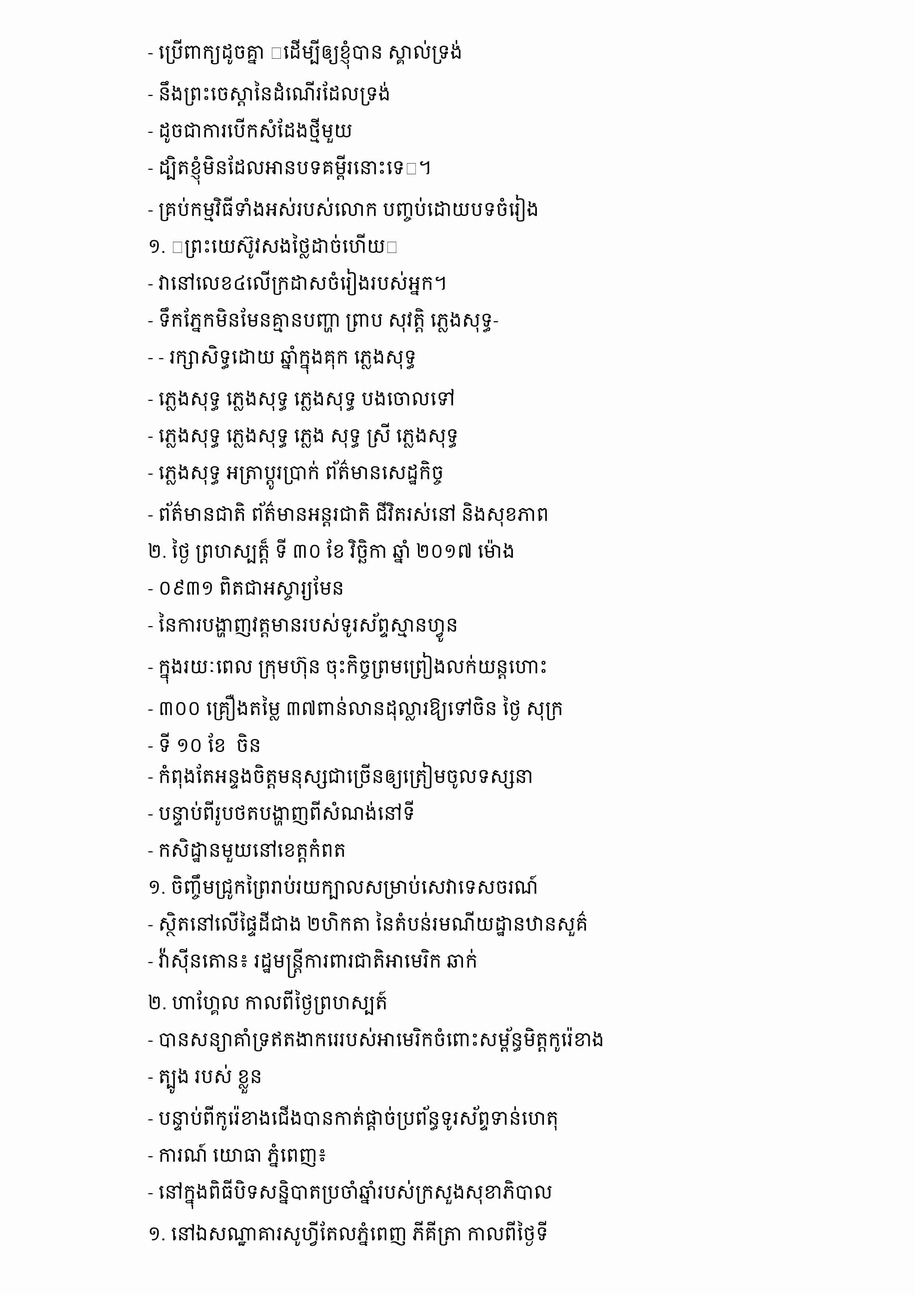text: (148, 652, 552, 684), (148, 1179, 557, 1209), (148, 911, 593, 937), (148, 1027, 610, 1052), (148, 694, 569, 721), (148, 1105, 563, 1131), (148, 195, 544, 222), (148, 501, 554, 527), (148, 762, 538, 789), (148, 947, 483, 978), (148, 874, 543, 900), (148, 1221, 553, 1246), (148, 538, 520, 564), (148, 39, 467, 69), (148, 612, 463, 642), (148, 459, 449, 490), (148, 307, 504, 333), (148, 155, 436, 185), (148, 268, 452, 296), (148, 345, 421, 374), (148, 423, 464, 448), (148, 800, 420, 826), (148, 389, 460, 411), (148, 233, 404, 259), (148, 81, 396, 106), (148, 990, 393, 1015), (148, 118, 358, 143), (148, 838, 351, 863), (148, 576, 349, 601), (148, 1143, 332, 1168), (148, 1064, 267, 1094), (148, 732, 266, 752)
